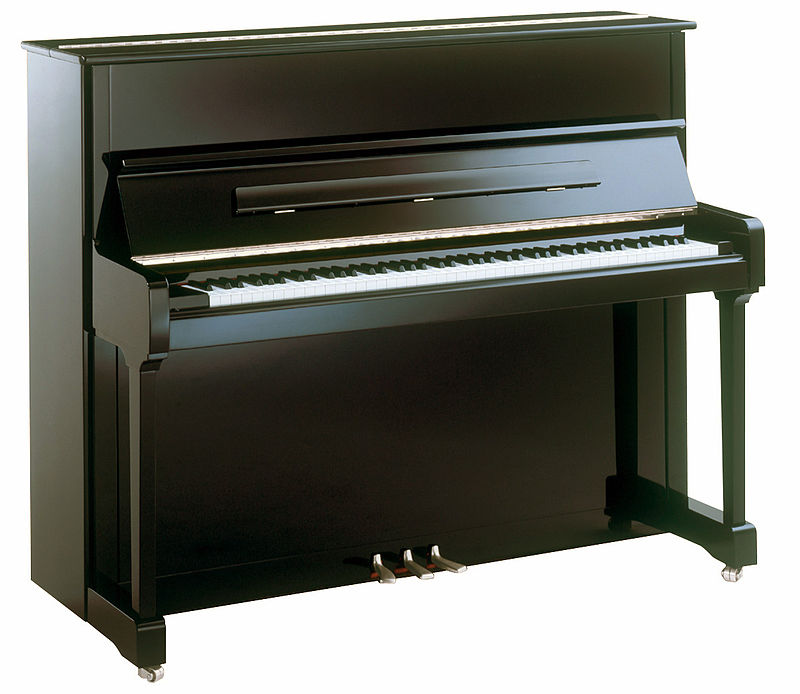piano: (19, 4, 771, 686)
